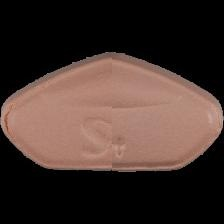55154-4513: (0, 0, 224, 224)
